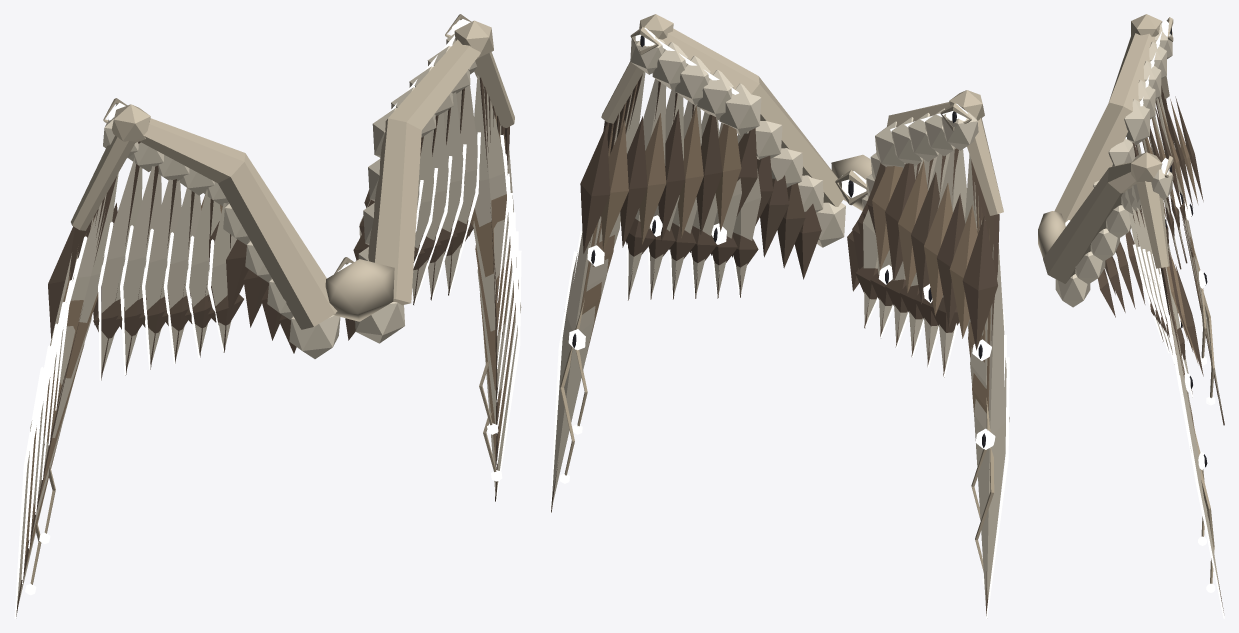
The model's file is wings-4.glb.
The picture shows the model from 3 angles, left to right: view 1: azimuth 30°, elevation 25°; view 2: azimuth 150°, elevation 25°; view 3: azimuth 270°, elevation 25°; orthographic projection. The views are drawn at different scales.
Visible parts, largest first — view 1: wing_r, wing_l, pulse_edges_r, pulse_edges_l, root; view 2: wing_l, wing_r, pulse_edges_r, pulse_edges_l, pulse_ocelli_l, pulse_ocelli_r, root, blink_third; view 3: wing_l, wing_r, pulse_edges_l, root, sway_sinewa_r, sway_sinewa_l, pulse_ocelli_r, sway_sinewb_r, pulse_ocelli_l.
Boxes of the visible parts, x1=… form: wing_r: x1=16, y1=104, x2=340, y2=616; wing_l: x1=345, y1=20, x2=521, y2=501; pulse_edges_r: x1=14, y1=222, x2=224, y2=618; pulse_edges_l: x1=413, y1=132, x2=521, y2=501; root: x1=325, y1=259, x2=394, y2=321; wing_l: x1=551, y1=14, x2=845, y2=512; wing_r: x1=847, y1=90, x2=1009, y2=615; pulse_edges_r: x1=864, y1=291, x2=1009, y2=618; pulse_edges_l: x1=550, y1=231, x2=740, y2=512; pulse_ocelli_l: x1=568, y1=215, x2=726, y2=350; pulse_ocelli_r: x1=878, y1=265, x2=995, y2=449; root: x1=831, y1=154, x2=871, y2=210; blink_third: x1=835, y1=170, x2=867, y2=205; wing_l: x1=1043, y1=152, x2=1223, y2=612; wing_r: x1=1054, y1=14, x2=1224, y2=425; pulse_edges_l: x1=1133, y1=244, x2=1224, y2=618; root: x1=1038, y1=211, x2=1065, y2=257; sway_sinewa_r: x1=1203, y1=293, x2=1215, y2=405; sway_sinewa_l: x1=1201, y1=469, x2=1215, y2=592; pulse_ocelli_r: x1=1165, y1=191, x2=1207, y2=288; sway_sinewb_r: x1=1193, y1=247, x2=1206, y2=365; pulse_ocelli_l: x1=1178, y1=313, x2=1207, y2=470.
Bounding box in the file's own units: 1.16 × 1.19 × 0.4574.
